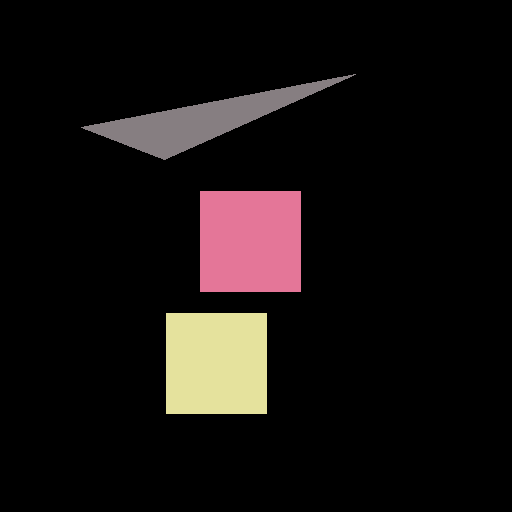square: (166, 313, 266, 413), (200, 191, 300, 291)
triangle: (81, 74, 355, 159)
